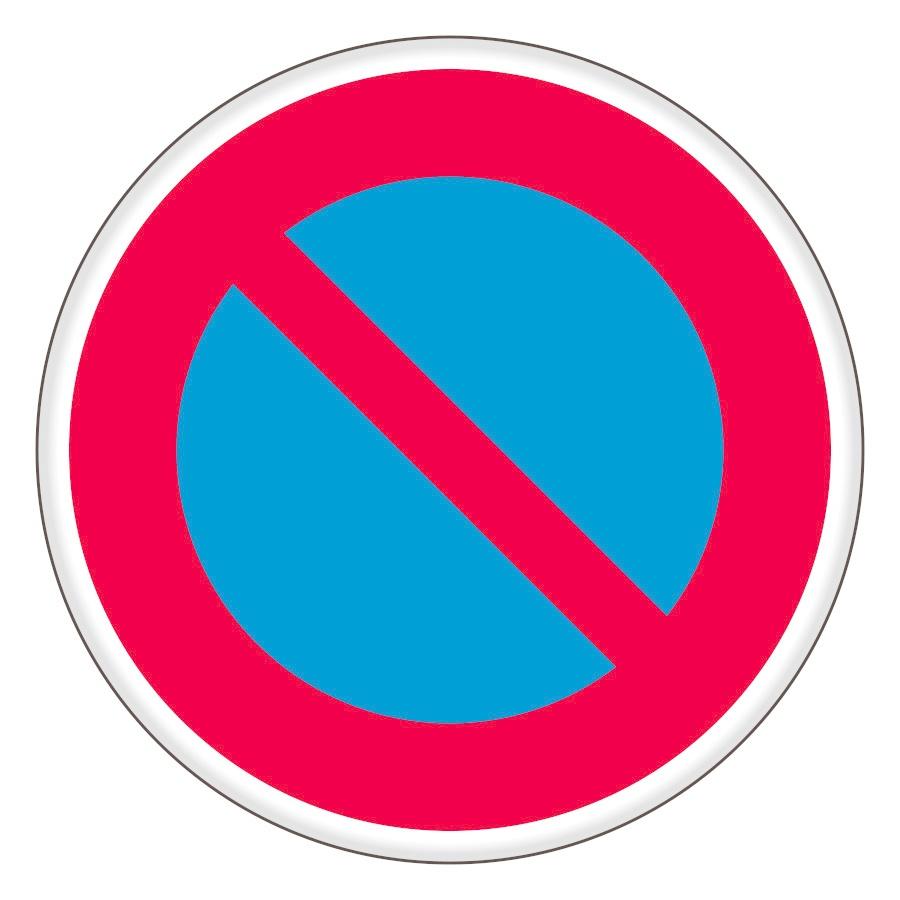Prohibition_sign: (36, 33, 879, 870)
